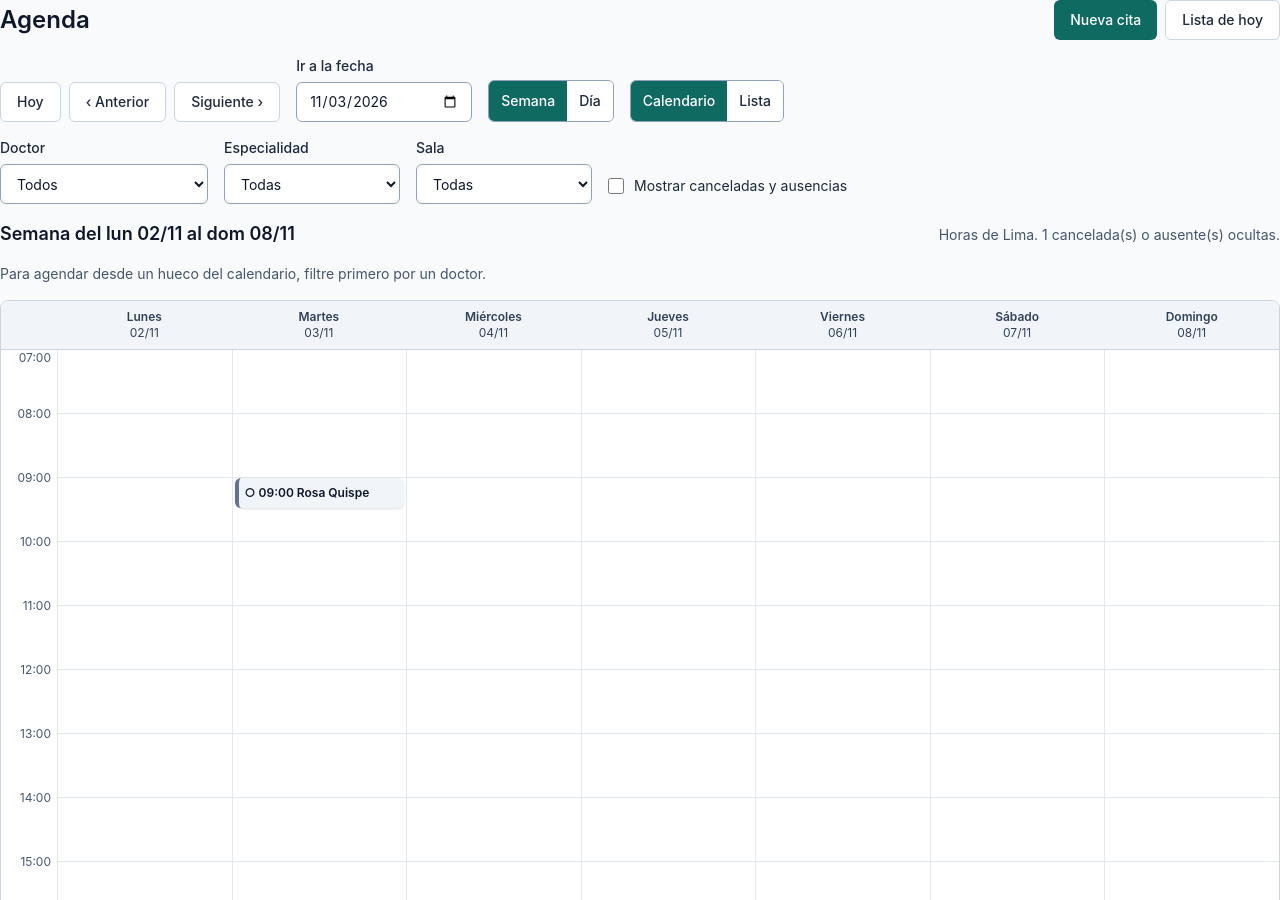
Test: AgendaWorkspace › la vista de lista muestra lo mismo en una tabla accesible y abre el detalle
Expected: the button "○ 09:00 Rosa Quispe" is shown, [235,478,404,508]
Click the button "Lista".
click(755, 101)  # box [727,81,783,121]
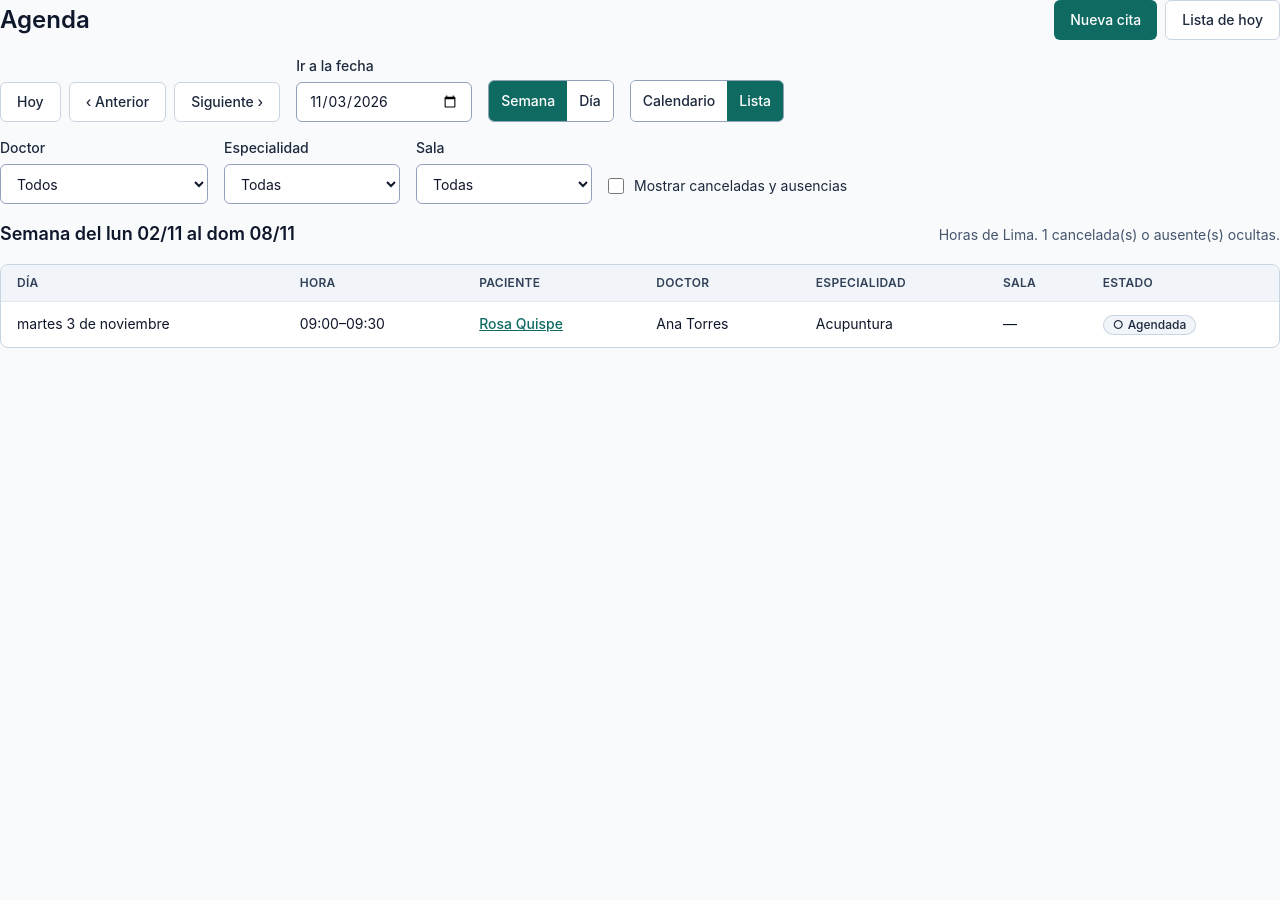
Now the text "09:00–09:30" is shown, box [284,302,463,347]
Click the button "Rosa Quispe".
click(521, 324)  # box [479,314,563,334]
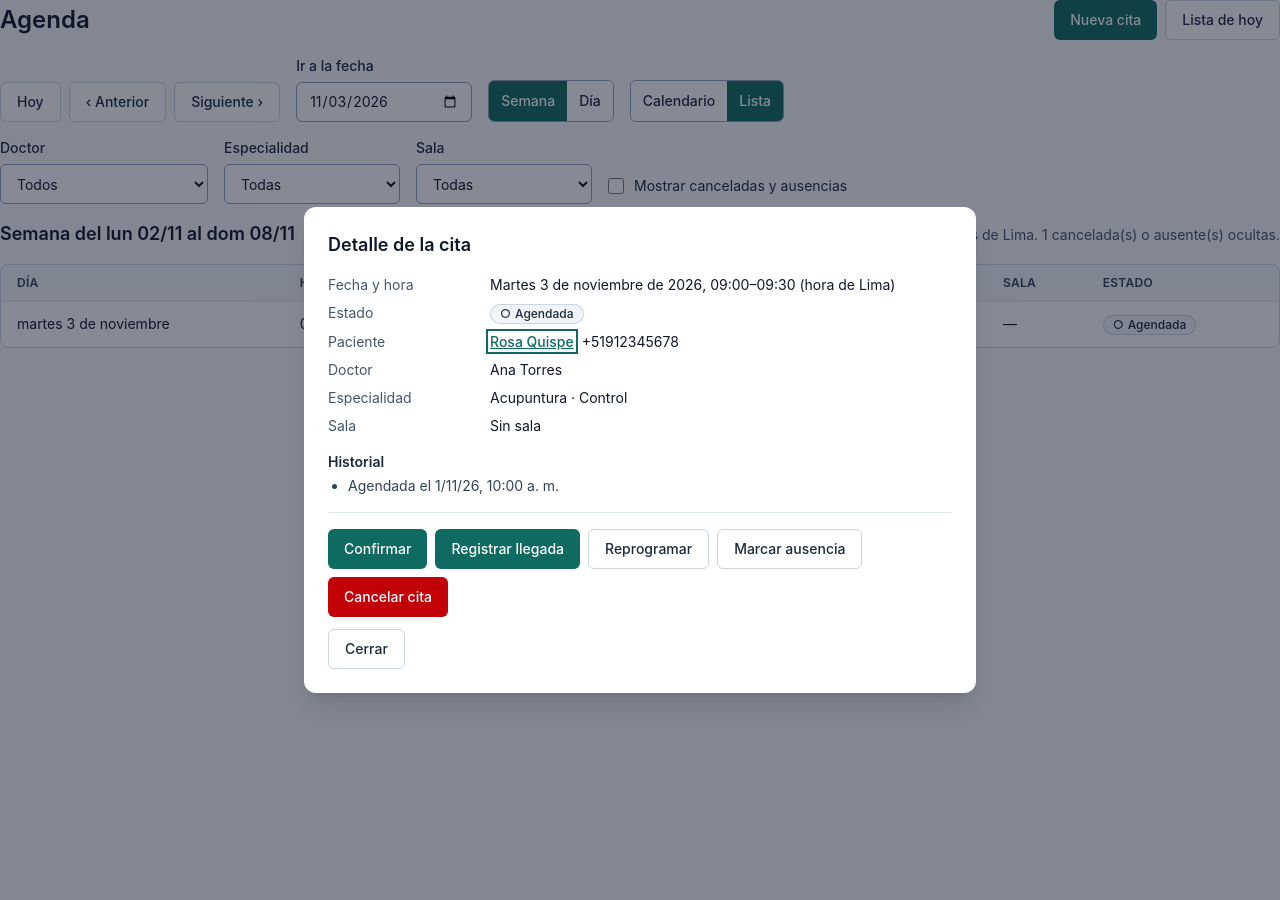
Now the dialog "Detalle de la cita" is shown, box [304,207,976,693]
